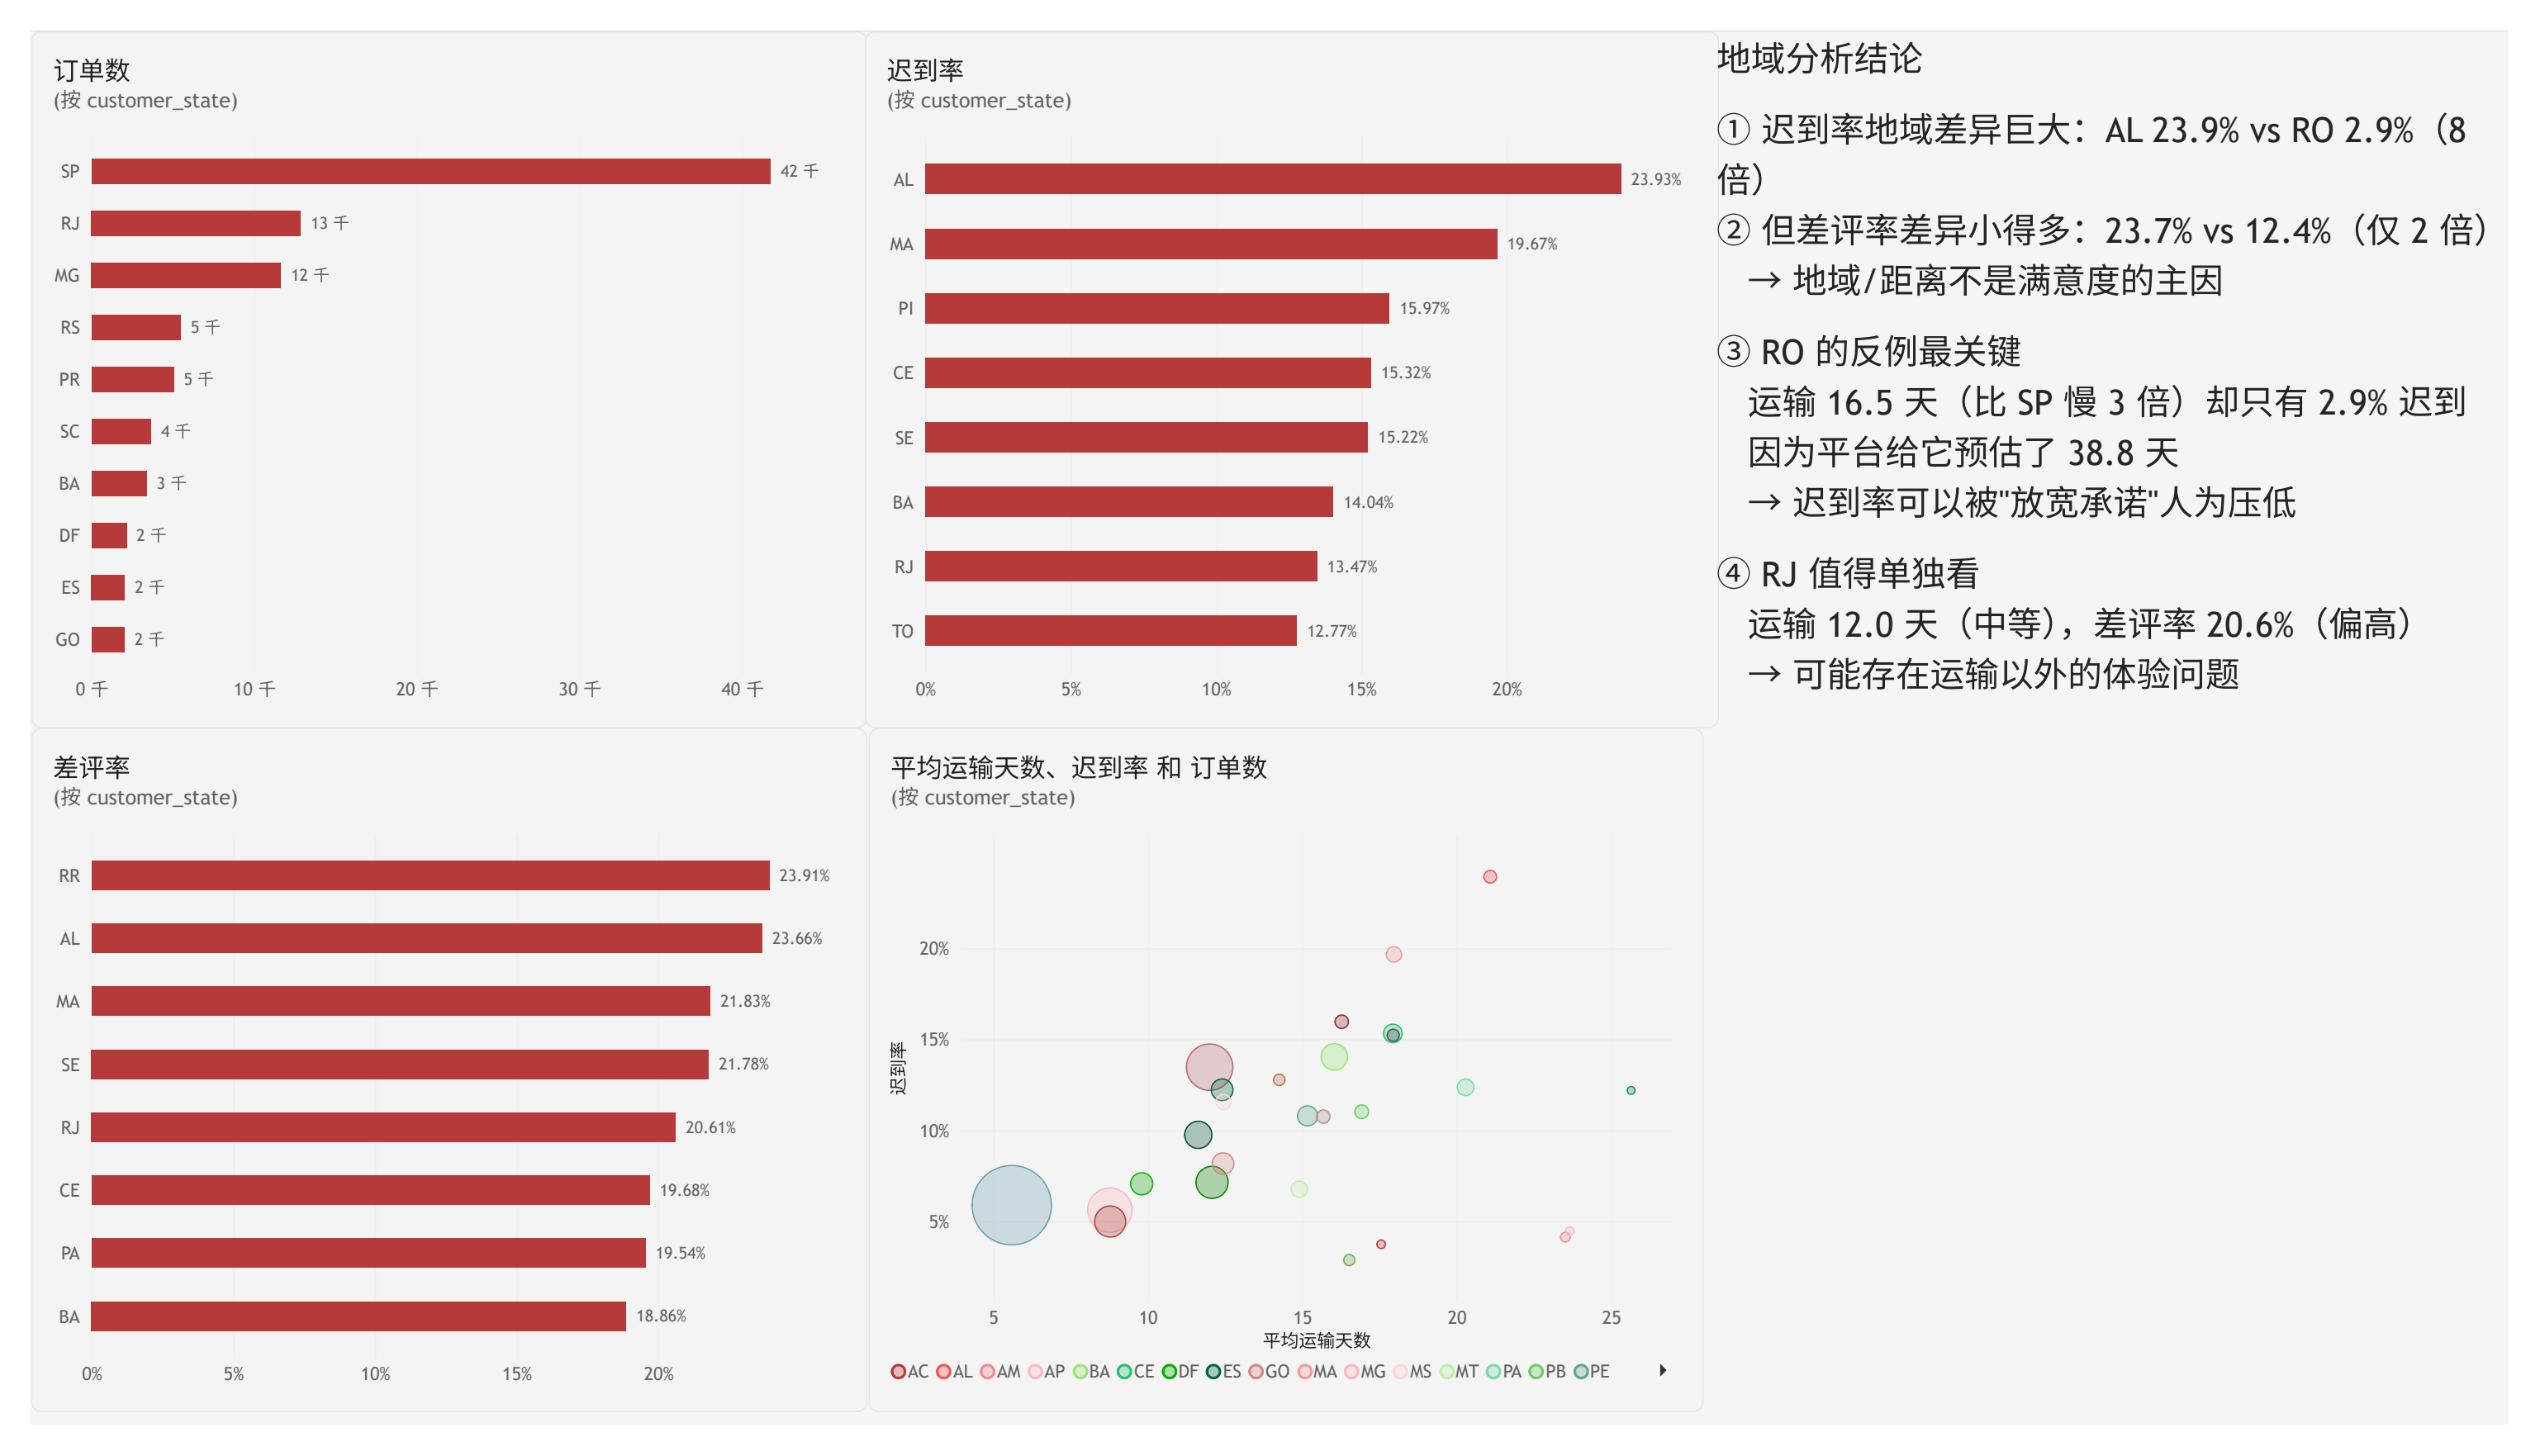

Layout of this report page (visuals, bound fields, positions):
{"tool":"powerbi","page":{"name":"p4地域分析","canvas":[1920,1080],"ordinal":3},"visuals":[{"type":"clusteredBarChart","fields":{"Category":["olist v_pbi_orders.customer_state"],"Y":["olist v_pbi_orders.订单数"]},"box":[0,0,647.9,540.4],"z":0},{"type":"clusteredBarChart","fields":{"Category":["olist v_pbi_orders.customer_state"],"Y":["olist v_pbi_orders.迟到率"]},"box":[645.7,0,662.3,540.1],"z":1},{"type":"clusteredBarChart","fields":{"Category":["olist v_pbi_orders.customer_state"],"Y":["olist v_pbi_orders.差评率"]},"box":[0,540.1,648,530],"z":2},{"type":"scatterChart","fields":{"Series":["olist v_pbi_orders.customer_state"],"Size":["olist v_pbi_orders.订单数"],"X":["olist v_pbi_orders.平均运输天数"],"Y":["olist v_pbi_orders.迟到率"]},"box":[648.7,540.1,647,530],"z":3},{"type":"textbox","box":[1306.5,0,614,1069.6],"z":4}]}

Visuals, with their boxes on the page's 1920x1080 design canvas (x1, y1, x2, y2). These are canvas units, not pixel positions in the 2540x1456 screenshot, which may show the page scaled, cropped or inside an application window:
clusteredBarChart - olist v_pbi_orders.customer_state x olist v_pbi_orders.订单数: Rect(0, 0, 648, 540)
clusteredBarChart - olist v_pbi_orders.customer_state x olist v_pbi_orders.迟到率: Rect(646, 0, 1308, 540)
clusteredBarChart - olist v_pbi_orders.customer_state x olist v_pbi_orders.差评率: Rect(0, 540, 648, 1070)
scatterChart - olist v_pbi_orders.customer_state x olist v_pbi_orders.订单数: Rect(649, 540, 1296, 1070)
textbox: Rect(1306, 0, 1920, 1070)
